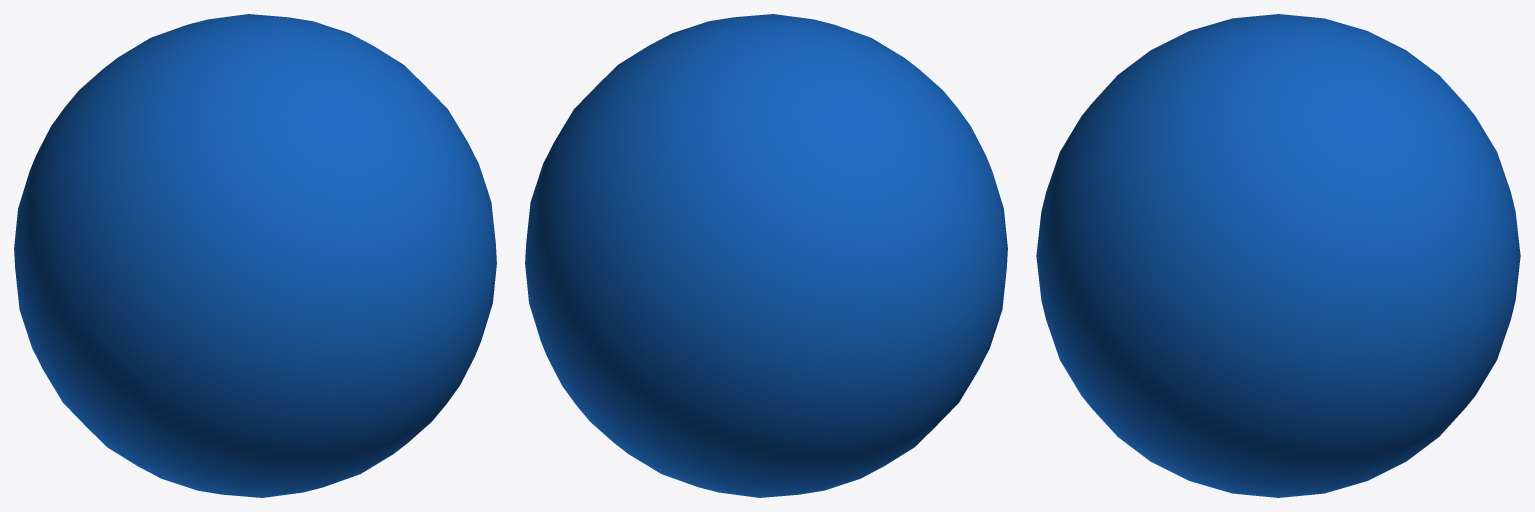
File: blue_circle.glb
The picture shows the model from 3 angles, left to right: view 1: azimuth 30°, elevation 25°; view 2: azimuth 150°, elevation 25°; view 3: azimuth 270°, elevation 25°; orthographic projection.
Parts seen in each view (by area): view 1: Cube.6666; view 2: Cube.6666; view 3: Cube.6666.
Part boxes in pixels (<box>): Cube.6666: <box>14,14,496,497</box>; Cube.6666: <box>525,14,1007,497</box>; Cube.6666: <box>1036,14,1520,497</box>.
Bounding box in the file's own units: 2.23 × 2.23 × 2.23.
Materials: 1 (1 with a texture image).
